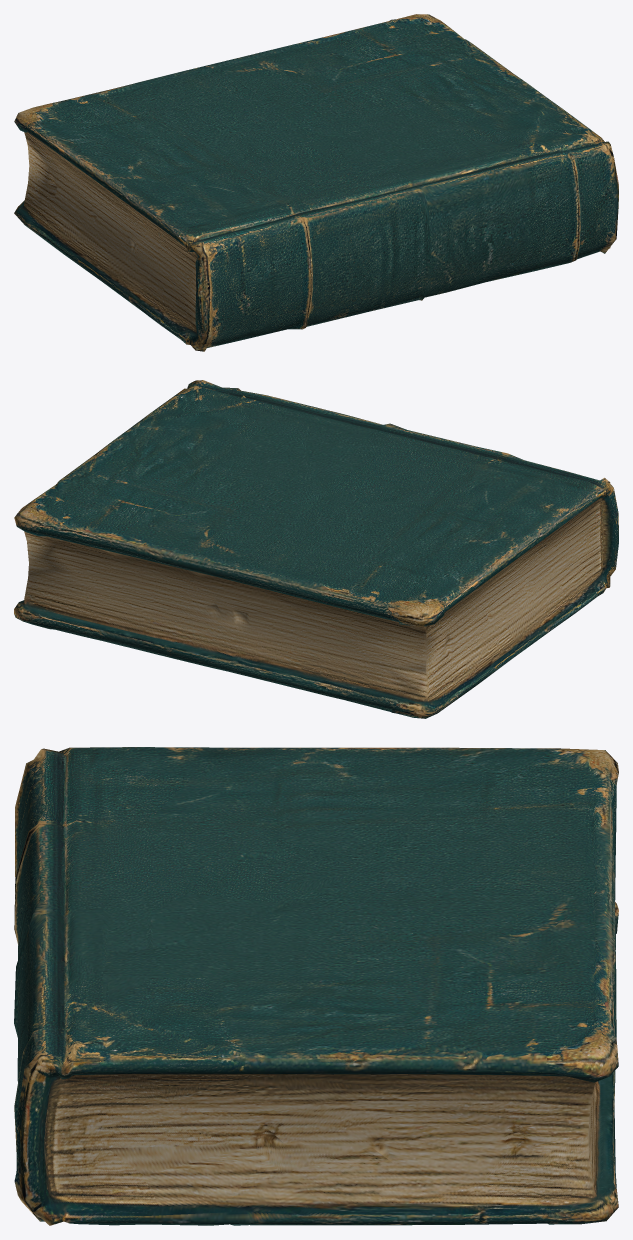
File: DeskGreenBook.fbx
3 views of the same model, one above another, from view 1: azimuth 30°, elevation 25°; view 2: azimuth 150°, elevation 25°; view 3: azimuth 270°, elevation 25° (orthographic). The views are drawn at different scales.
Visible parts, largest first — view 1: tripo_node_727c7a09-b67f-4697-9cad-31e0a9cd19c3; view 2: tripo_node_727c7a09-b67f-4697-9cad-31e0a9cd19c3; view 3: tripo_node_727c7a09-b67f-4697-9cad-31e0a9cd19c3.
Boxes of the visible parts, <box> form: tripo_node_727c7a09-b67f-4697-9cad-31e0a9cd19c3: <box>14,14,618,351</box>; tripo_node_727c7a09-b67f-4697-9cad-31e0a9cd19c3: <box>14,380,618,718</box>; tripo_node_727c7a09-b67f-4697-9cad-31e0a9cd19c3: <box>14,747,618,1225</box>.
Bounding box in the file's own units: 100 × 26.69 × 80.12.
Materials: 1 (1 with a texture image).
